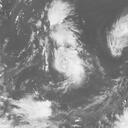cyclone: (53, 44, 89, 86)
